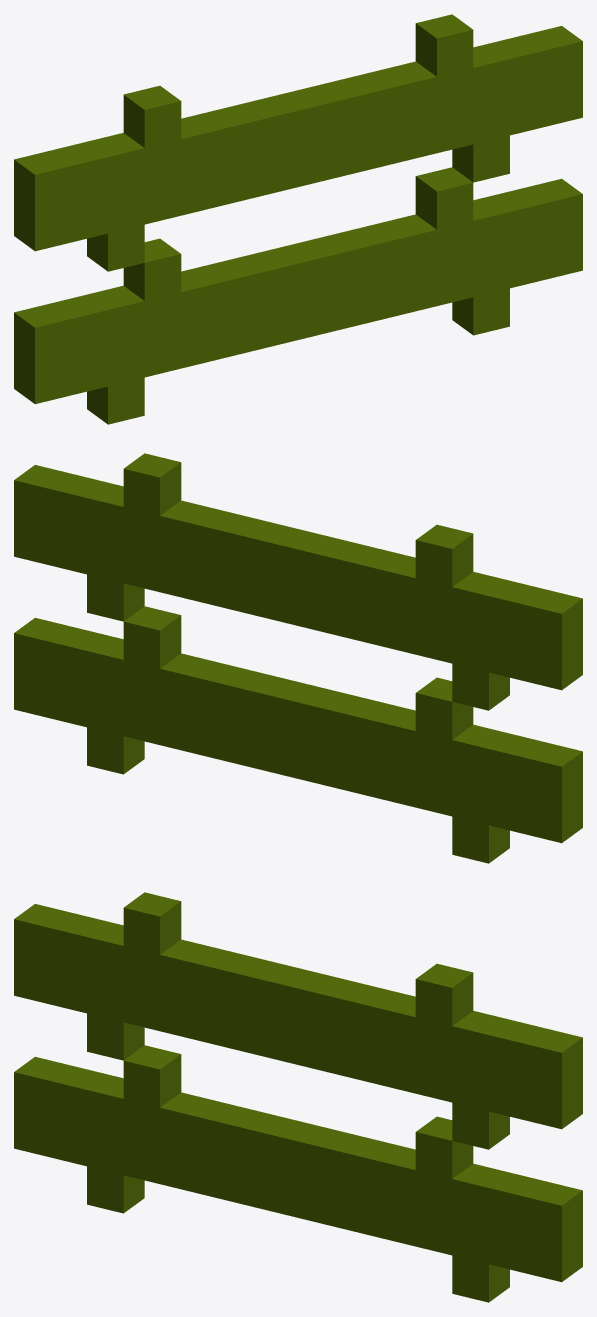
File: MazeTan2Stairs.vox.obj
The picture shows the model from 3 angles, top to bottom: view 1: azimuth 30°, elevation 25°; view 2: azimuth 150°, elevation 25°; view 3: azimuth 330°, elevation 25°; orthographic projection.
Bounding box in the file's own units: 1.5 × 0.8 × 0.1.
1 material, 1 textured.
